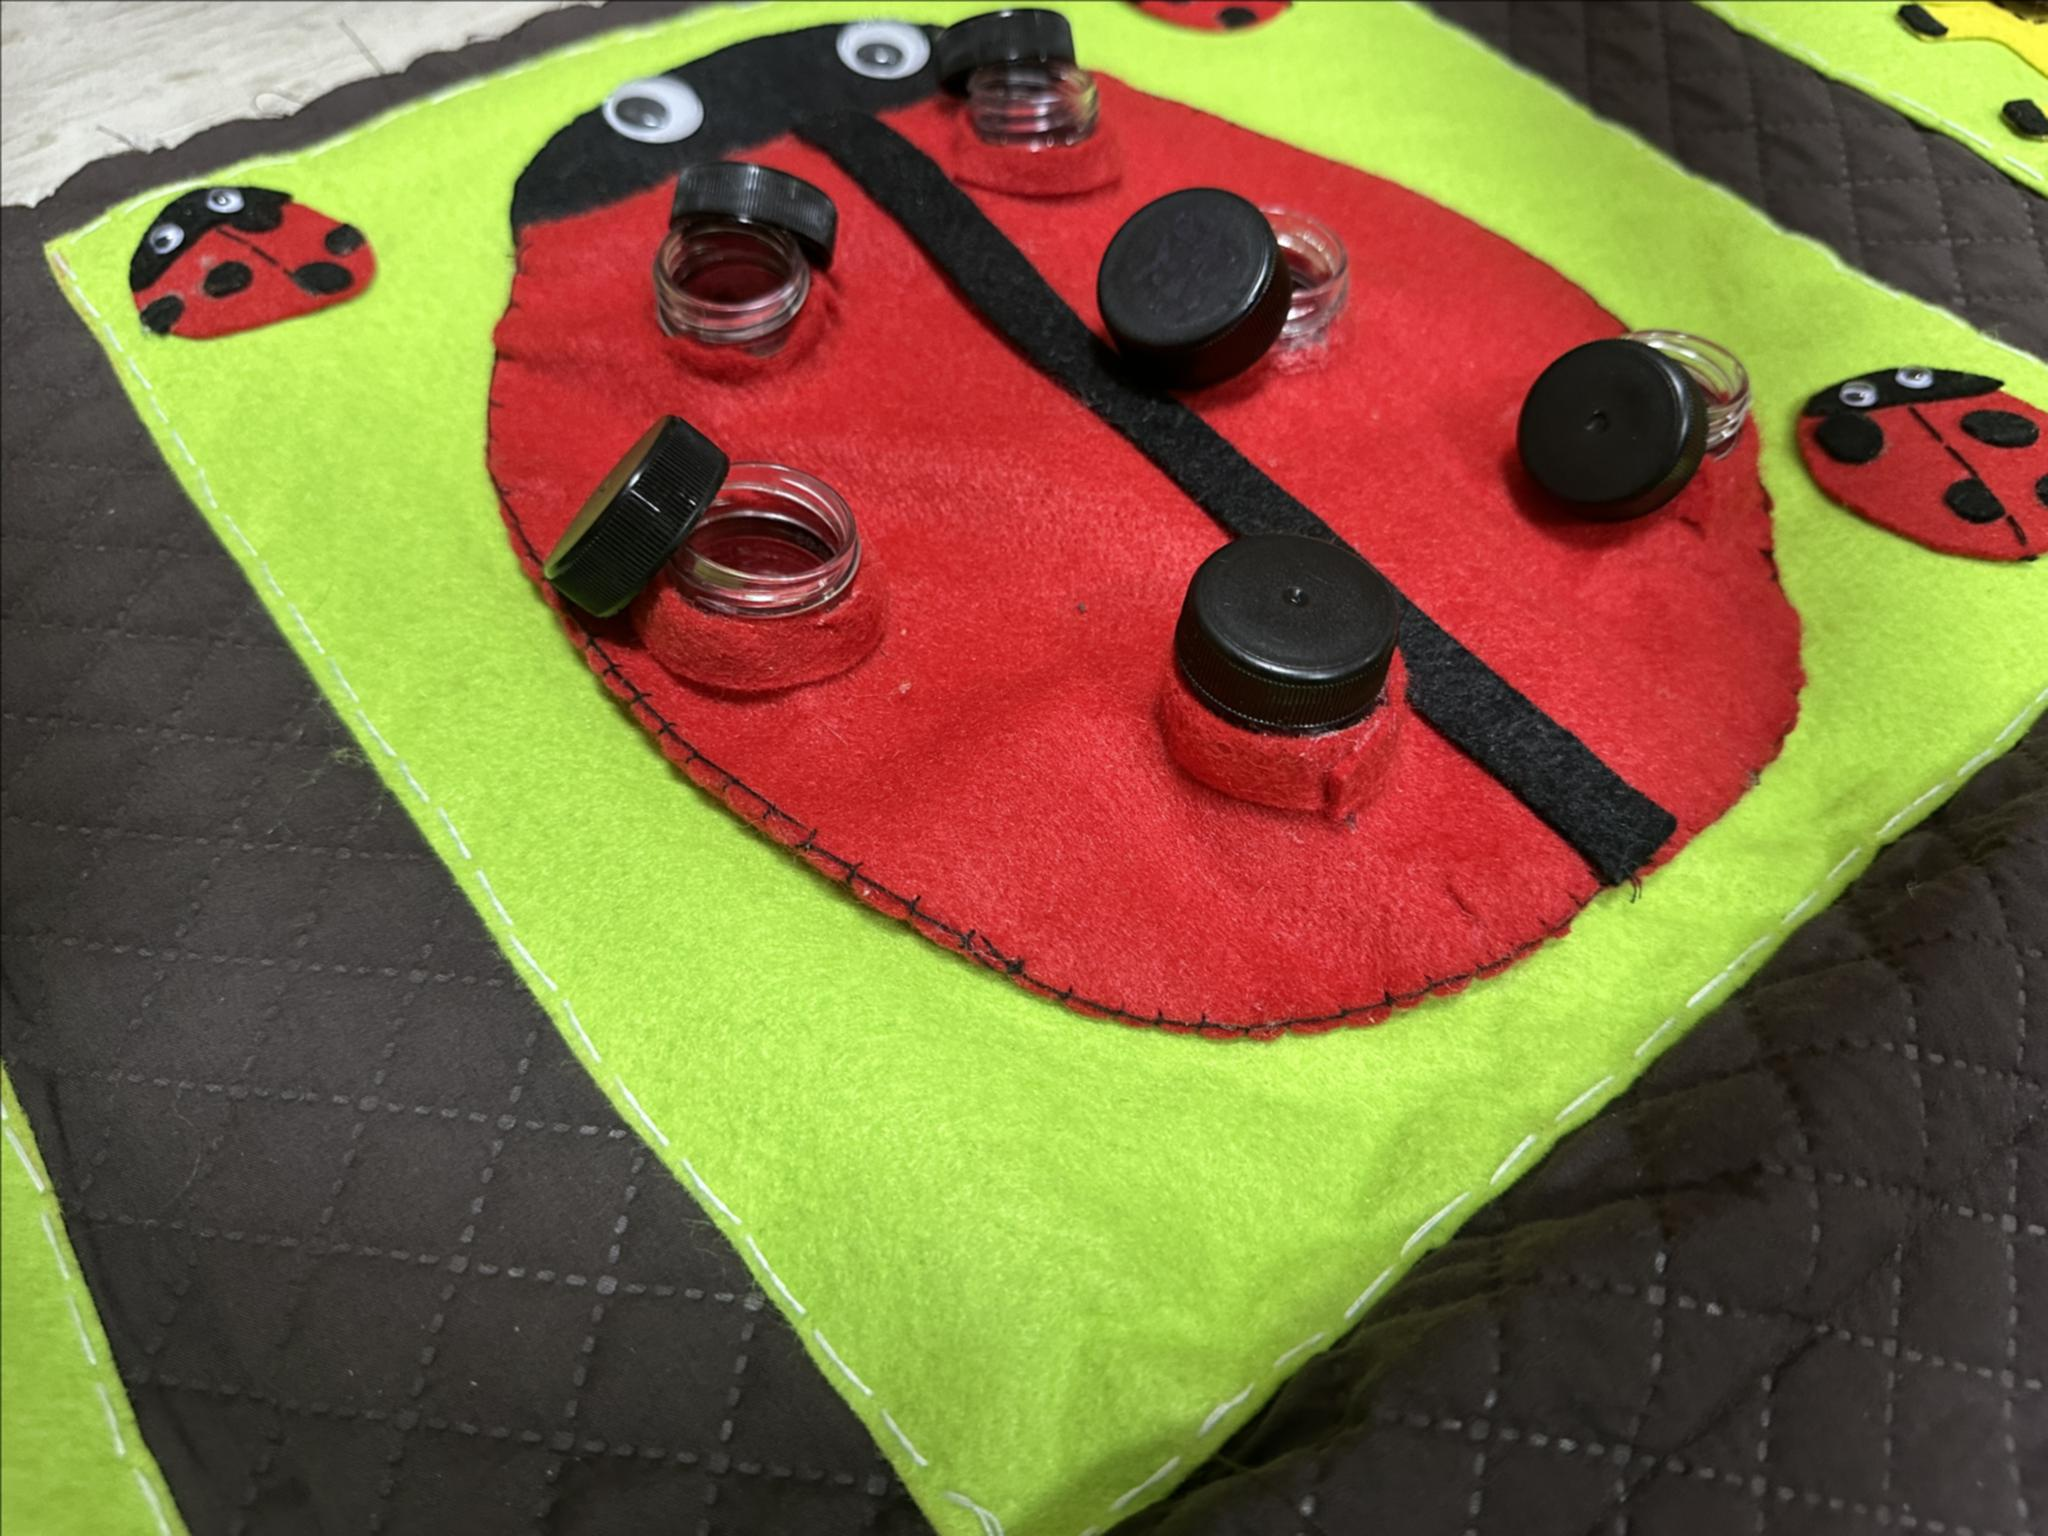cap_ng: (516, 373, 882, 713), (1071, 161, 1382, 419), (1461, 295, 1787, 539), (606, 118, 884, 373), (905, 0, 1130, 184)
cap_ok: (1121, 484, 1448, 842)
